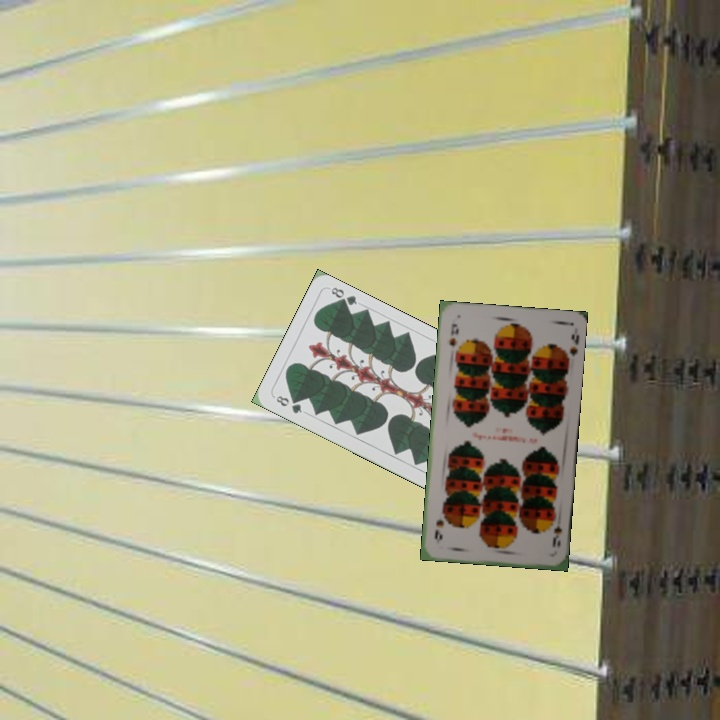G8: (272, 391, 305, 416)
S9: (547, 513, 564, 550), (445, 319, 461, 350)
